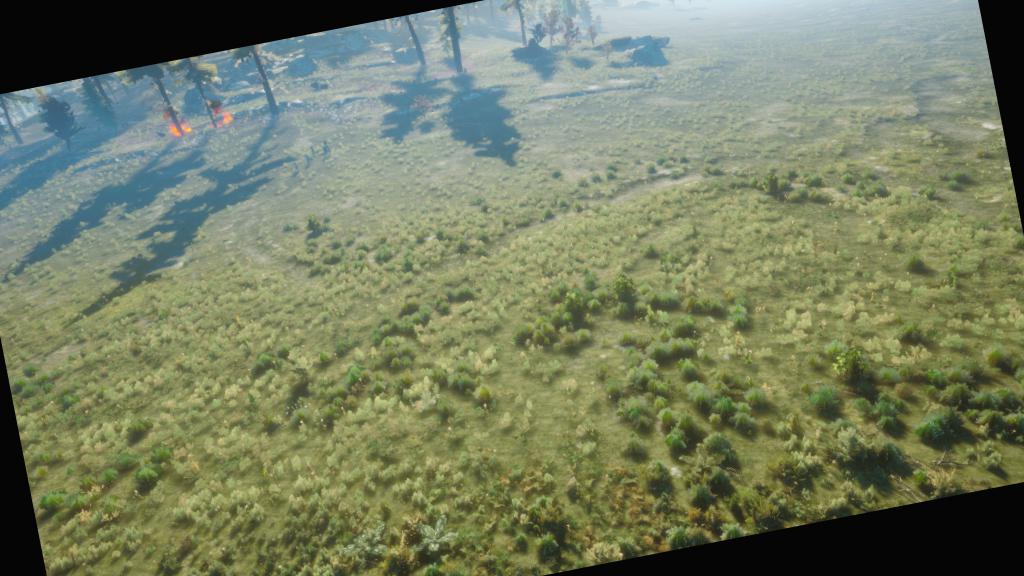Fire: (204, 94, 240, 142), (158, 106, 196, 144)
